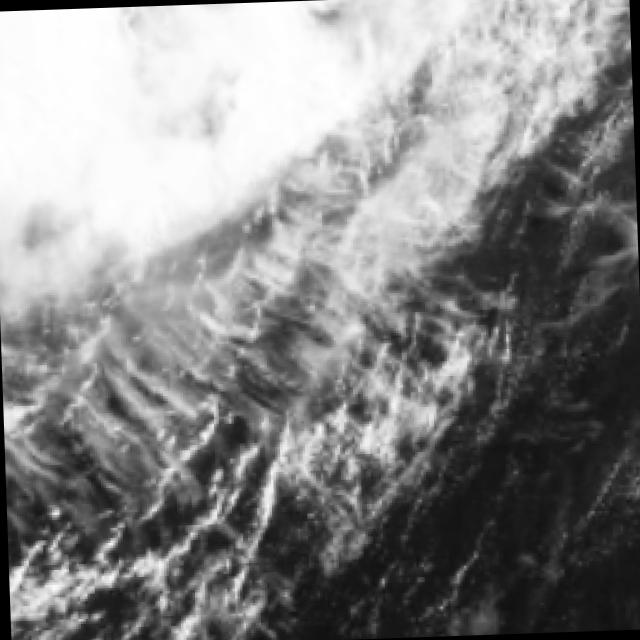CB: (154, 3, 372, 148), (0, 127, 217, 266), (0, 5, 172, 166), (320, 0, 486, 118)
